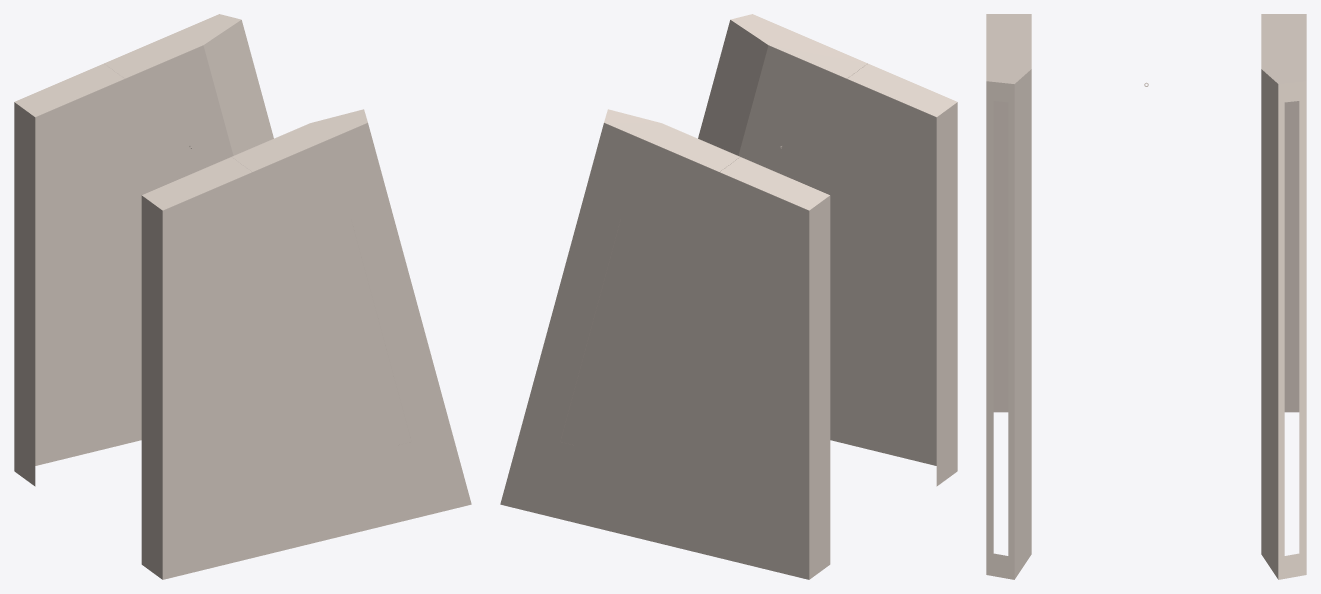
3 views of the same model, side by side, from view 1: azimuth 30°, elevation 25°; view 2: azimuth 150°, elevation 25°; view 3: azimuth 270°, elevation 25° (orthographic). The views are drawn at different scales.
Visible parts, largest first — view 1: Object; view 2: Object; view 3: Object.
Part boxes in pixels (<box>): Object: <box>14,14,471,579</box>; Object: <box>500,14,957,579</box>; Object: <box>986,14,1306,579</box>.
Bounding box in the file's own units: 1.54 × 1.24 × 1.88.
